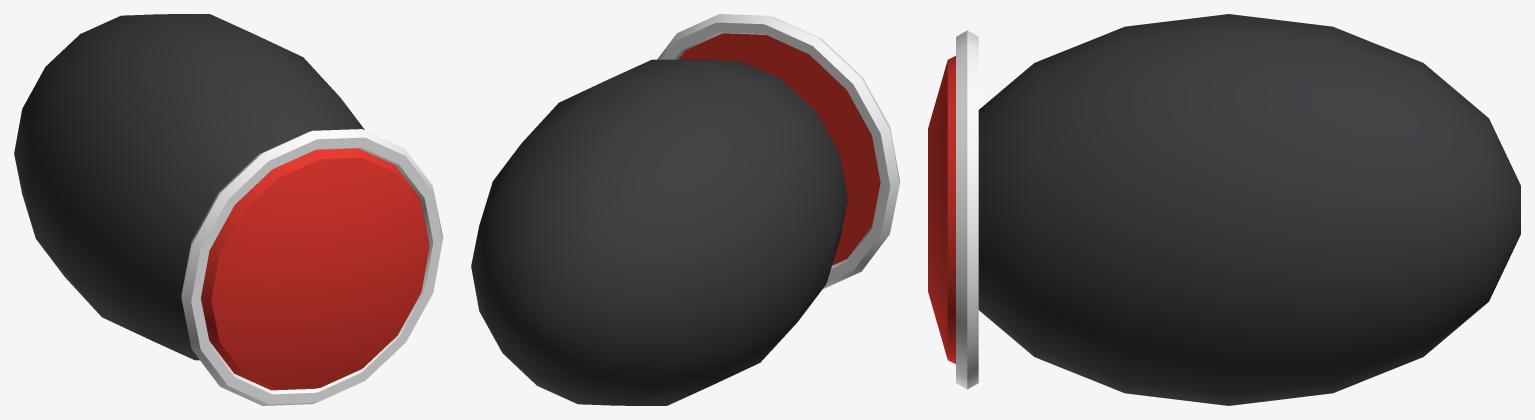
File: bullet.glb
3 renders of one model, left to right at view 1: azimuth 30°, elevation 25°; view 2: azimuth 150°, elevation 25°; view 3: azimuth 270°, elevation 25°, orthographic. The views are drawn at different scales.
Visible parts, largest first — view 1: lod0; view 2: lod0; view 3: lod0.
Boxes of the visible parts, <box> form: lod0: <box>14,14,442,405</box>; lod0: <box>471,14,899,405</box>; lod0: <box>928,14,1520,405</box>.
Size of what is drawn, in the model's own units: 0.06 by 0.06 by 0.0906.
